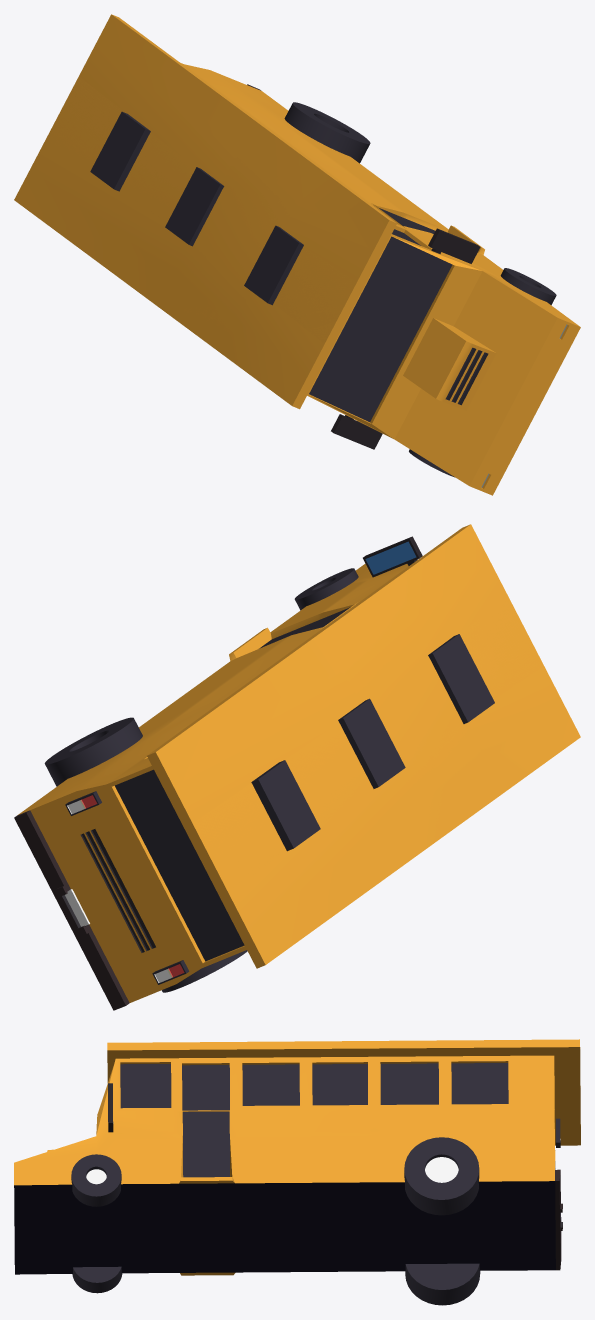
Rendered from Bus_LowPoly_free.glb.
The picture shows the model from 3 angles, top to bottom: view 1: azimuth 30°, elevation 25°; view 2: azimuth 150°, elevation 25°; view 3: azimuth 270°, elevation 25°; orthographic projection. The views are drawn at different scales.
Parts seen in each view (by area): view 1: unnamed; view 2: unnamed; view 3: unnamed.
Boxes of the visible parts, x1,y1,x2,y2 form: unnamed: (14,14,580,495); unnamed: (14,524,580,1010); unnamed: (14,1039,580,1305).
Size of the model in its own units: 3.94 by 3.91 by 8.46.
1 material, 1 textured.
